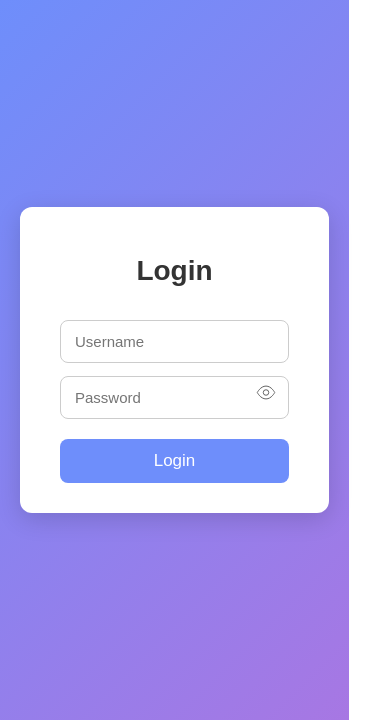
Test: Login Component Integration Tests › TC1: Hien thi loi khi submit form rong
What coordinates should you click on to do the following:
click the button with test id "login-button"
I would click on:
 (174, 461)
Its box is left=60, top=439, right=289, bottom=483.
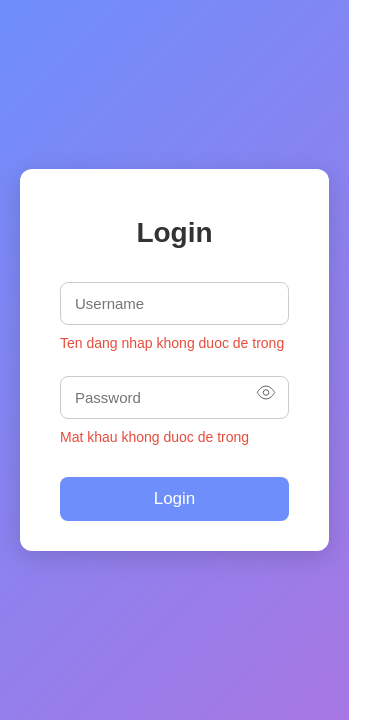
Now the text "Ten dang nhap khong duoc de trong" is shown, box left=60, top=333, right=289, bottom=354
Now the text "Mat khau khong duoc de trong" is shown, box left=60, top=429, right=249, bottom=445
